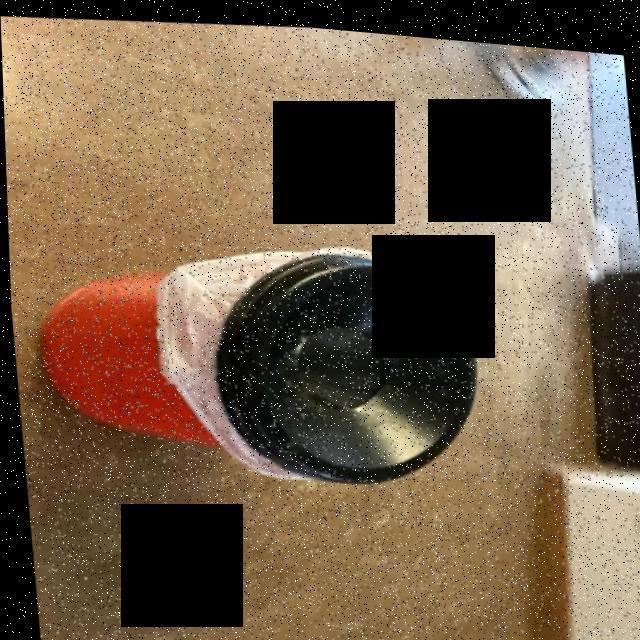bin: (5, 185, 502, 514)
